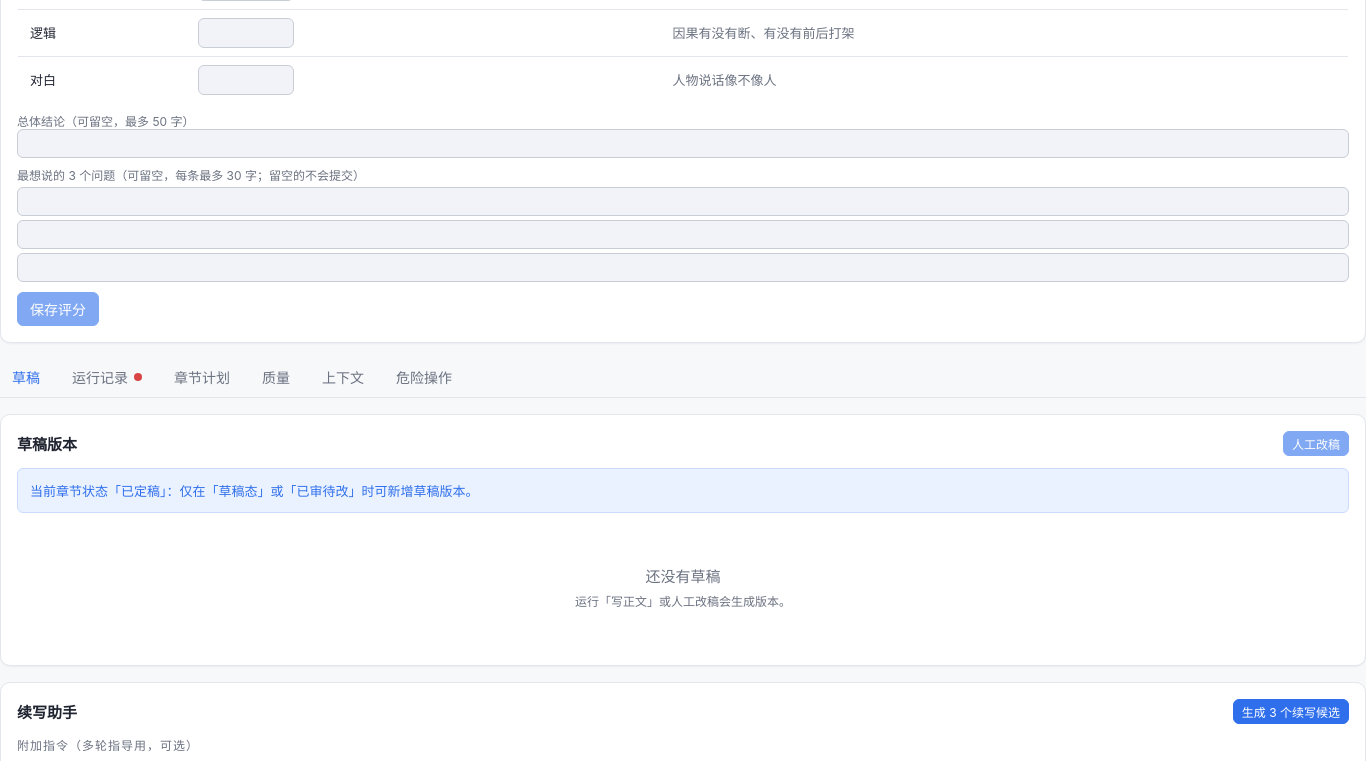
Scenario: ChapterDetailPage - FAILED run 错误文案不误判为「已驳回」 › commit 校验失败 (error 含 'rejected' 子串) → 渲染「失败」，不出现「已驳回」
(page scrolled)
Click the tab with test id "cdp-tab-runs": (107, 378) x1=60 y1=358 x2=154 y2=396
(page scrolled)
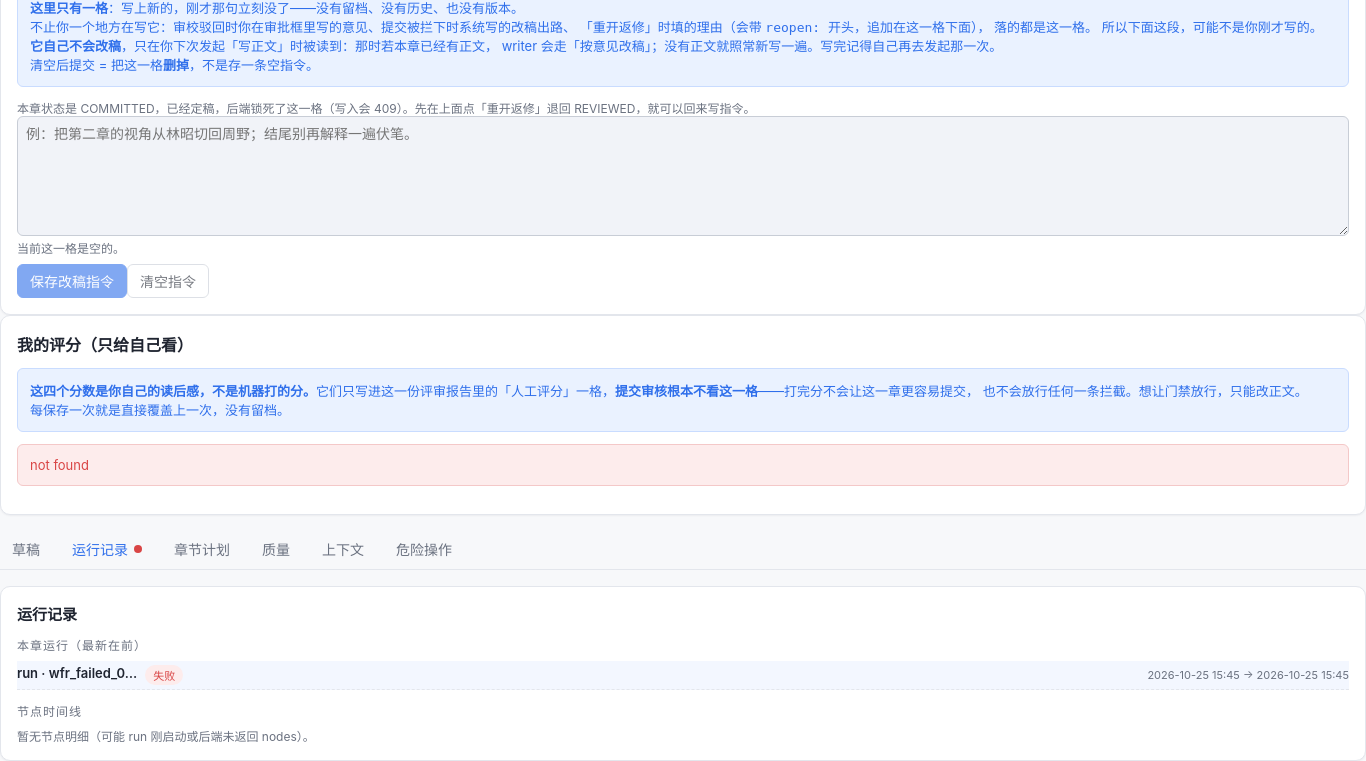
Check: the panel with test id "cdp-section-runs" is shown, box x1=0 y1=586 x2=1365 y2=760
Check: the text "失败" is shown, box x1=145 y1=665 x2=183 y2=685
